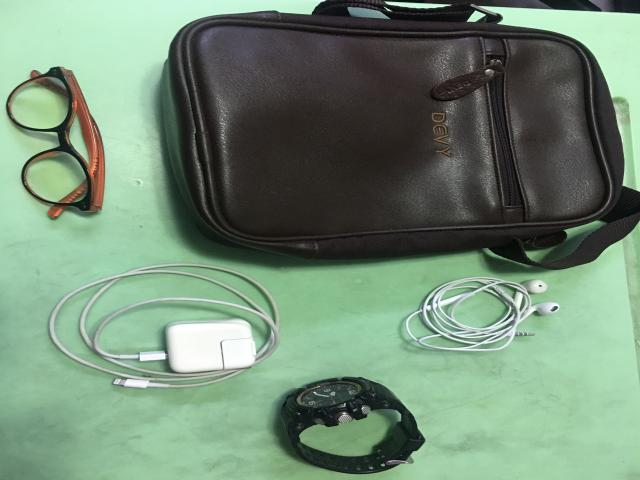Glasses: (7, 67, 105, 218)
Watch: (282, 377, 425, 474)
wire: (48, 263, 280, 388), (405, 278, 558, 351)
